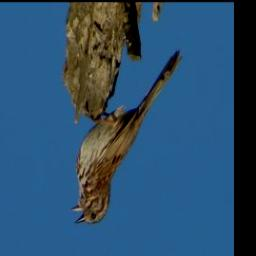Sparrow: (71, 48, 187, 227)
